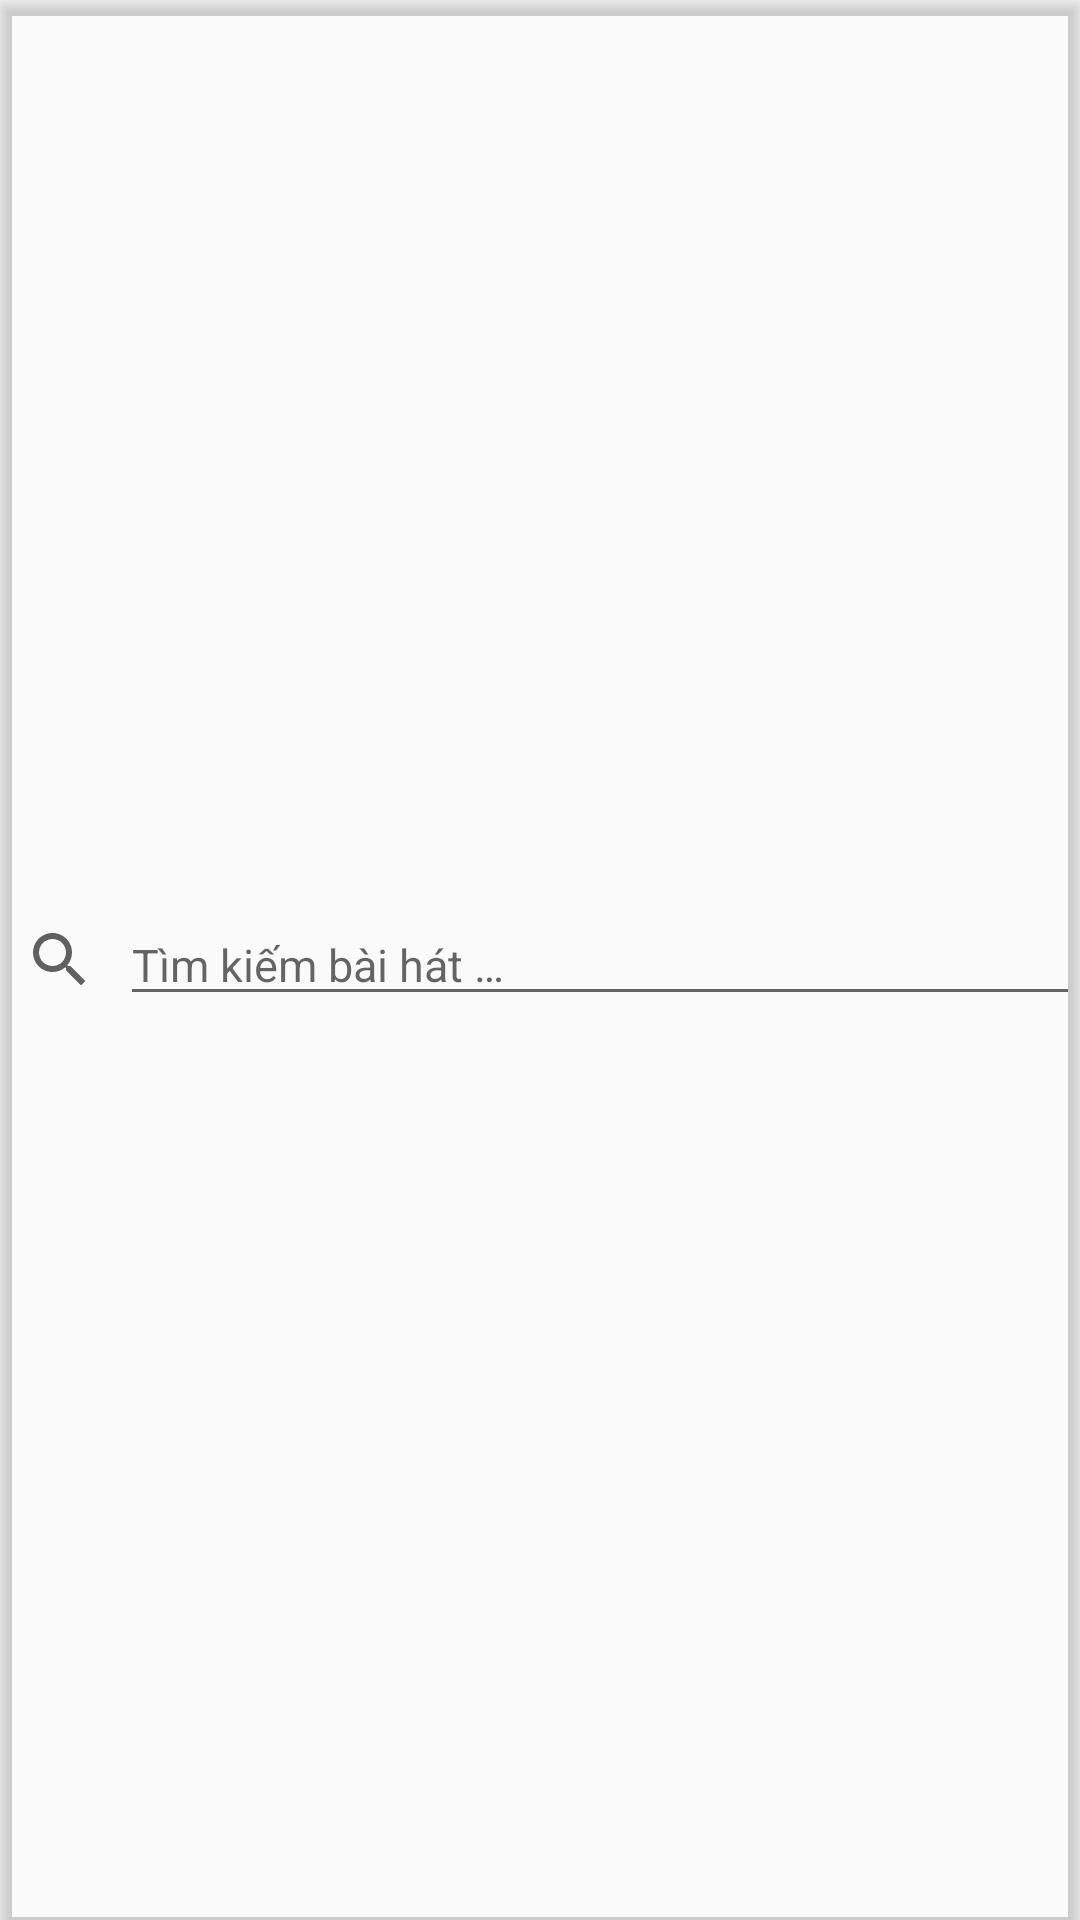

Screen size 1080 × 1920. Icon name, then its center in pixels as [x,y]:
search: [42,960]
